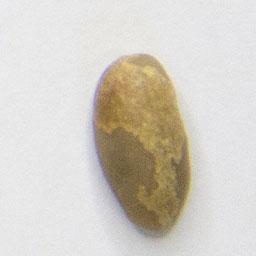longberry: (88, 48, 194, 241)
